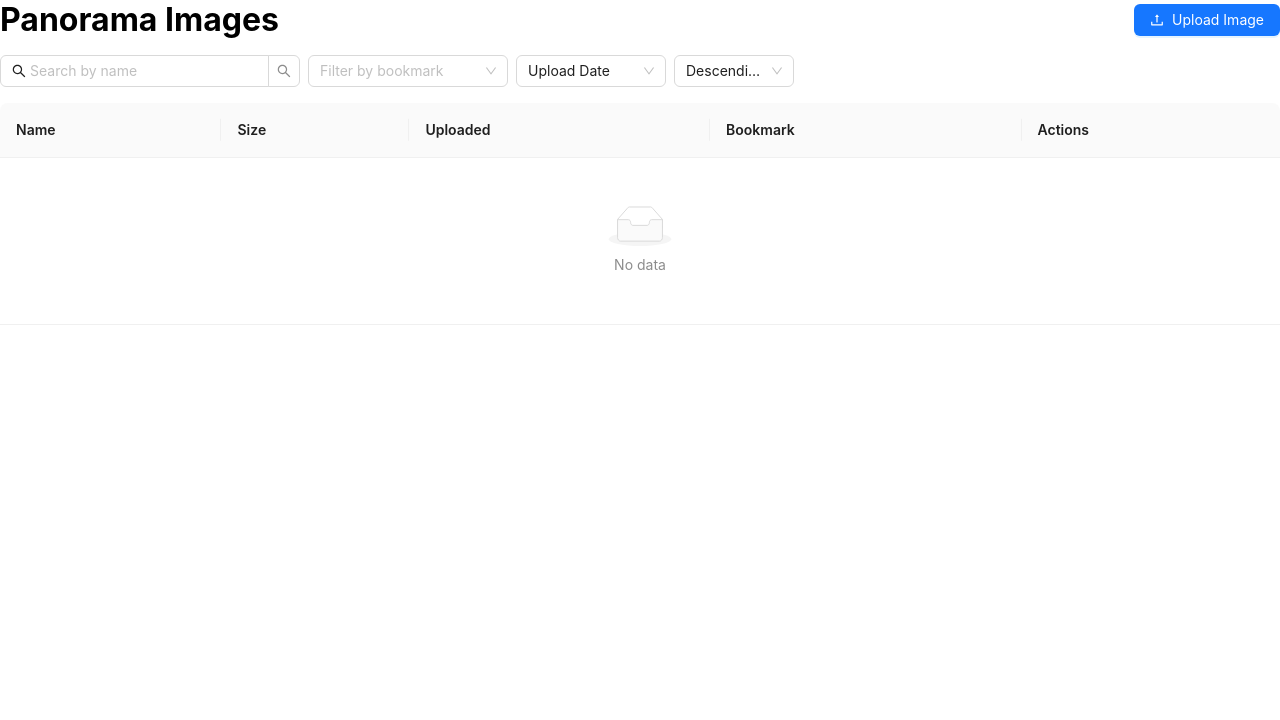
ImageList Component › should open upload modal when clicking upload button
The image size is (1280, 720).
Expected: the text "Upload Image" is shown, left=1172, top=11, right=1264, bottom=28
Click the button "Upload Image" at (1207, 20), box left=1134, top=4, right=1279, bottom=36
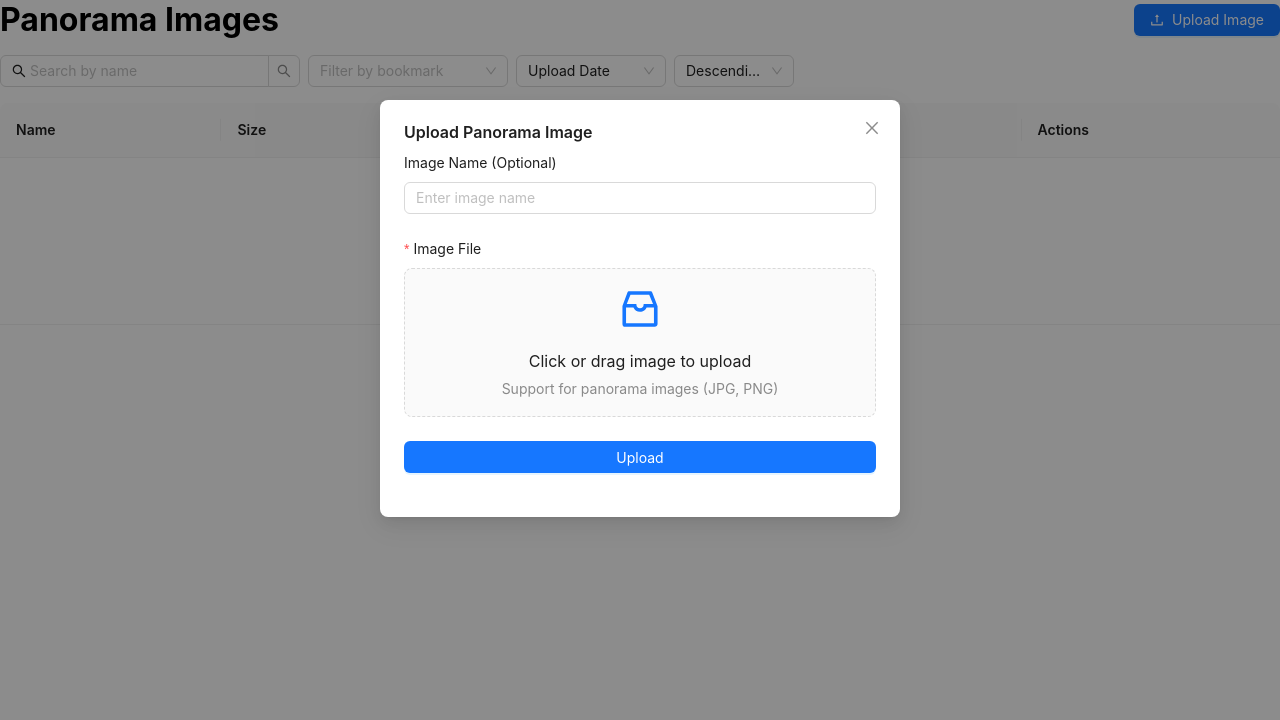
Now the text "Upload Panorama Image" is shown, box left=404, top=122, right=592, bottom=142
